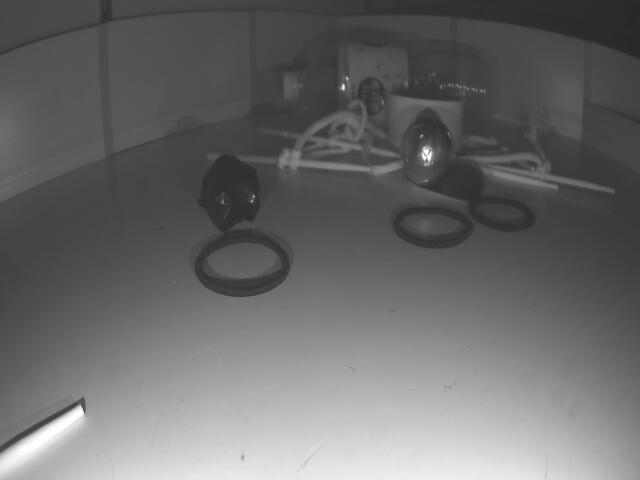Dead: (197, 151, 265, 225)
Live: (400, 117, 457, 188)
Point: (582, 101, 640, 171)
